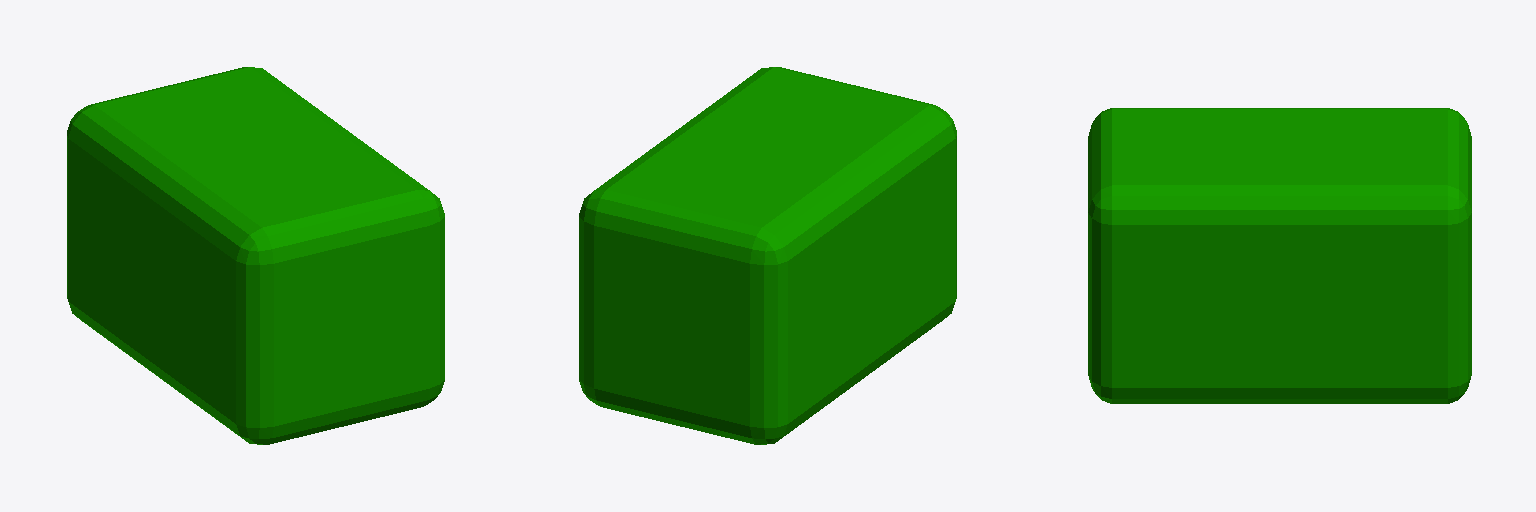
The model's file is brick.obj.
3 renders of one model, left to right at view 1: azimuth 30°, elevation 25°; view 2: azimuth 150°, elevation 25°; view 3: azimuth 270°, elevation 25°, orthographic.
Parts seen in each view (by area): view 1: brick.003_Cube.044; view 2: brick.003_Cube.044; view 3: brick.003_Cube.044.
Boxes of the visible parts, box(x1,y1,x2,y2) form: brick.003_Cube.044: box(67, 67, 444, 444); brick.003_Cube.044: box(579, 67, 956, 444); brick.003_Cube.044: box(1088, 108, 1471, 403).
Bounding box in the file's own units: 0.4 × 0.4 × 0.64.